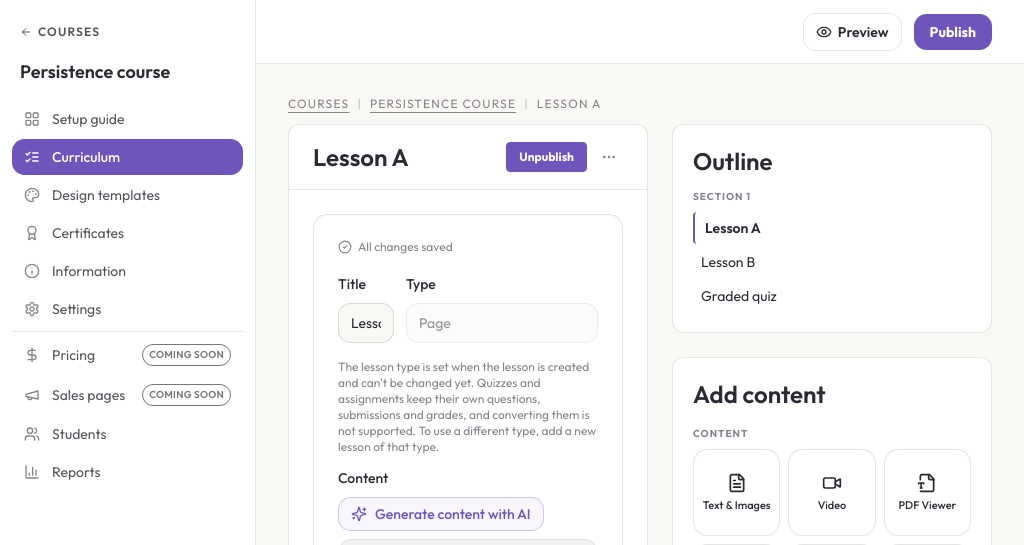
Test: CourseBuilder lesson persistence › P02: leaving via Preview with a failed save asks first and does not navigate
The image size is (1024, 545).
Replace the text in the field labelled "Title" with "Offline edit": (366, 323) [338, 303, 394, 343]
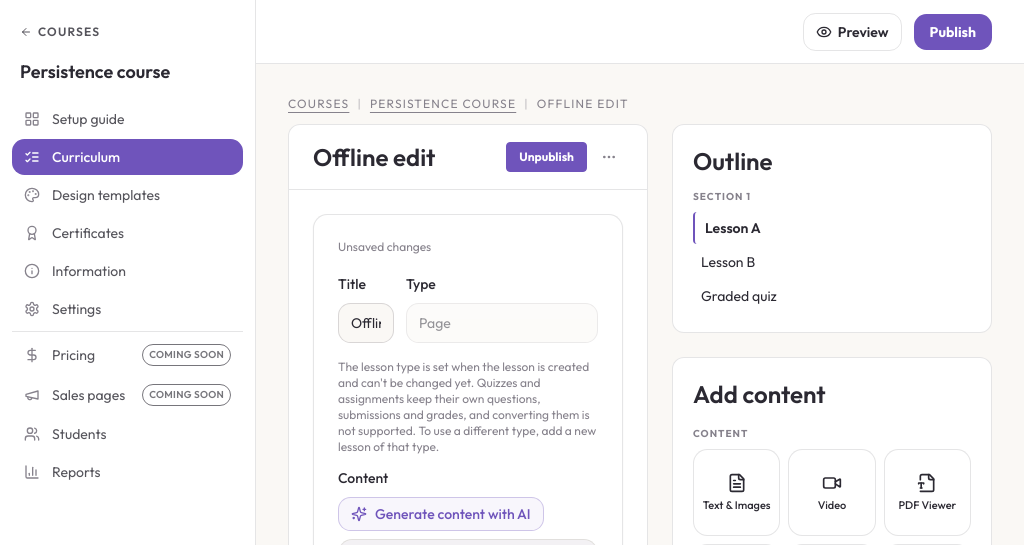
Click the link "Preview": (852, 32) [803, 12, 902, 50]
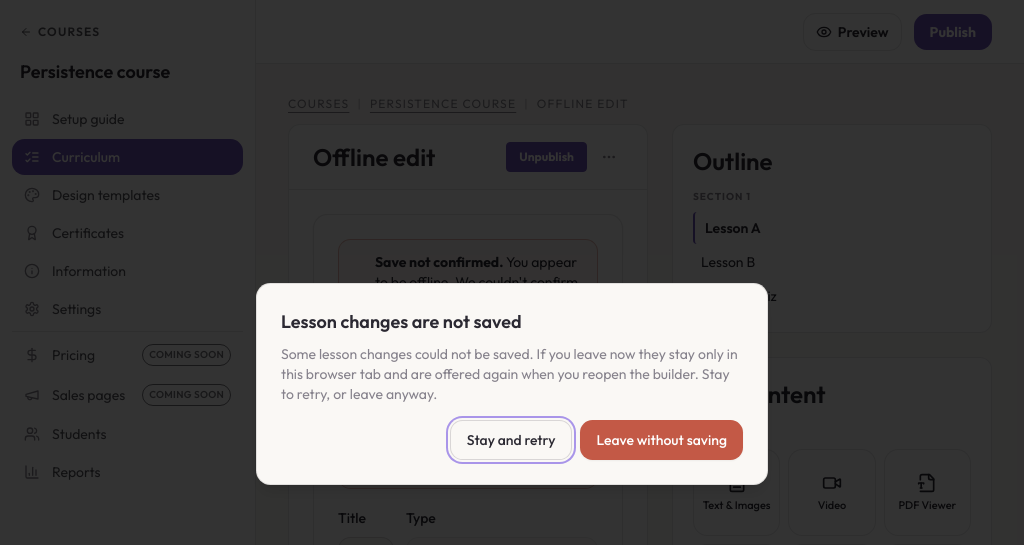
Expected: the text "Lesson A" is shown, [705, 219, 761, 237]
Result: the heading "Lesson changes are not saved" is shown at [281, 310, 522, 333]
